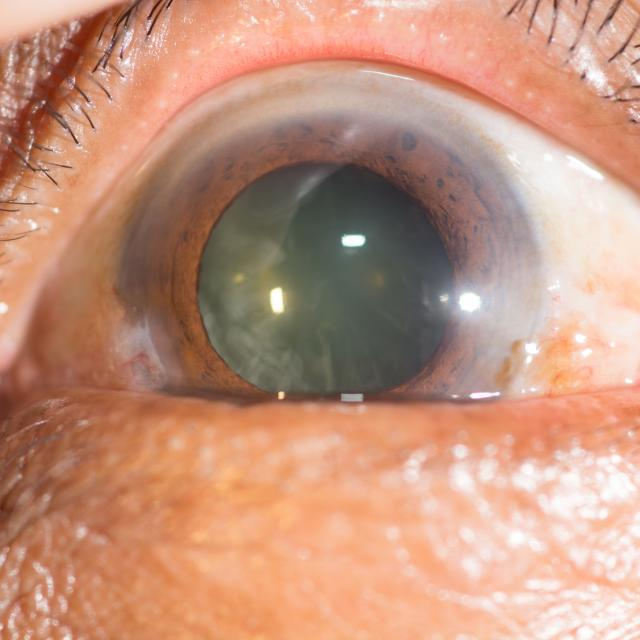eye: (120, 68, 542, 402)
